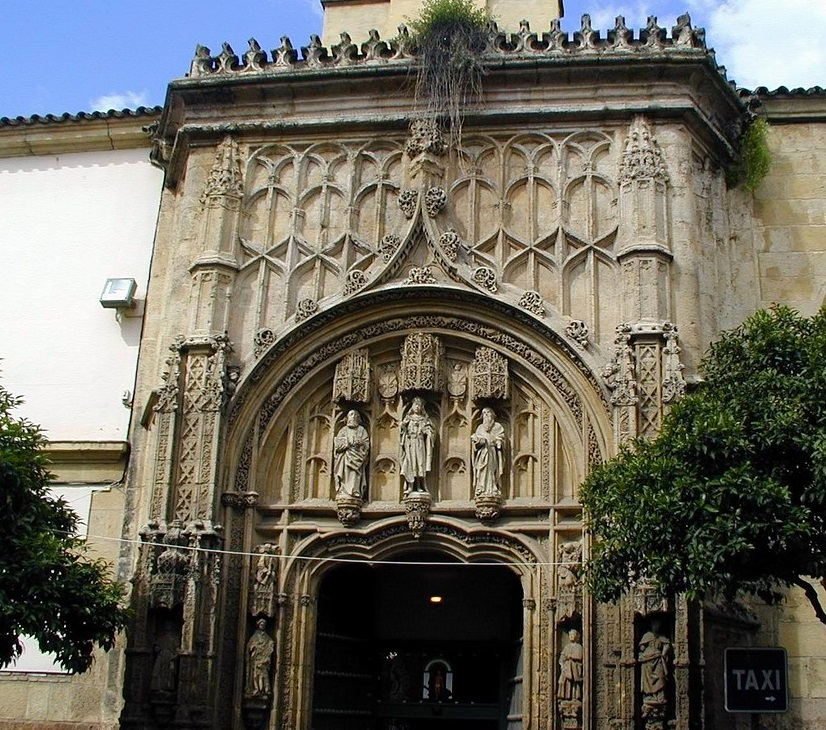arco-conopial: (259, 200, 580, 347)
arco-trilobulado: (291, 515, 537, 601)
